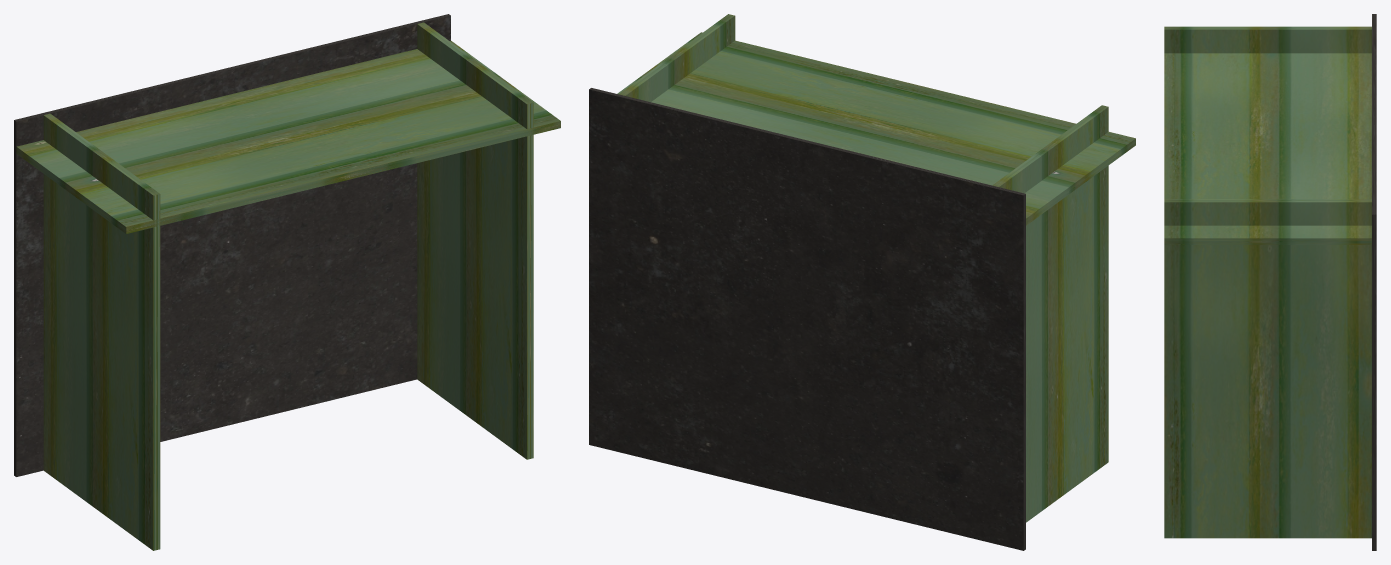
The model's file is cnc_toolchange_room.glb.
3 renders of one model, left to right at view 1: azimuth 30°, elevation 25°; view 2: azimuth 150°, elevation 25°; view 3: azimuth 270°, elevation 25°, orthographic. The views are drawn at different scales.
Parts seen in each view (by area): view 1: floor, backwall, leftwall, rightwall; view 2: floor, backwall, leftwall, rightwall; view 3: rightwall, backwall, leftwall, floor.
Boxes of the visible parts, x1,y1,x2,y2 form: floor: [14, 14, 450, 476]; backwall: [16, 40, 560, 233]; leftwall: [43, 113, 160, 550]; rightwall: [417, 22, 533, 459]; floor: [589, 88, 1025, 550]; backwall: [617, 32, 1135, 225]; leftwall: [992, 105, 1108, 522]; rightwall: [619, 14, 735, 102]; rightwall: [1164, 199, 1371, 538]; backwall: [1164, 53, 1371, 244]; leftwall: [1164, 26, 1371, 53]; floor: [1372, 14, 1376, 550].
Size of the model in its own units: 6.4 by 5 by 2.86.
2 materials, 2 textured.
